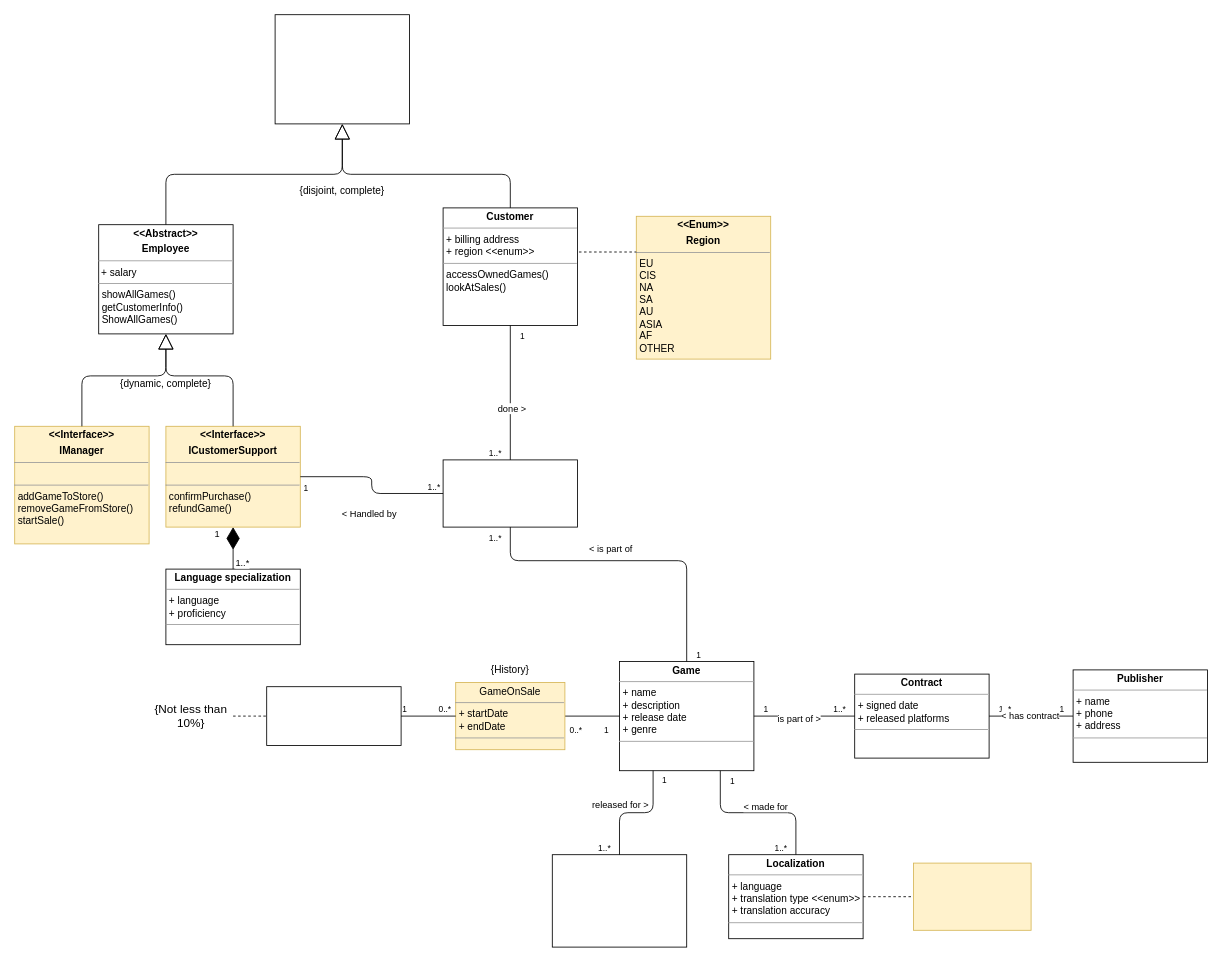
This 1222x962 diagram has some shape labels left out. The shapes that lost their labels are listed below. From the top down, each one's box as (x1, y1, x2, y2) in pixels, then its label:
(274, 14, 410, 124): <<Abstract>> Person + name + phone + birthday
(442, 459, 578, 527): Purchase + date
(266, 686, 401, 746): Sale + value
(551, 854, 687, 947): Update + version number + release date + description
(913, 862, 1031, 930): <<Enum>> TranslationType Manual Auto translated
